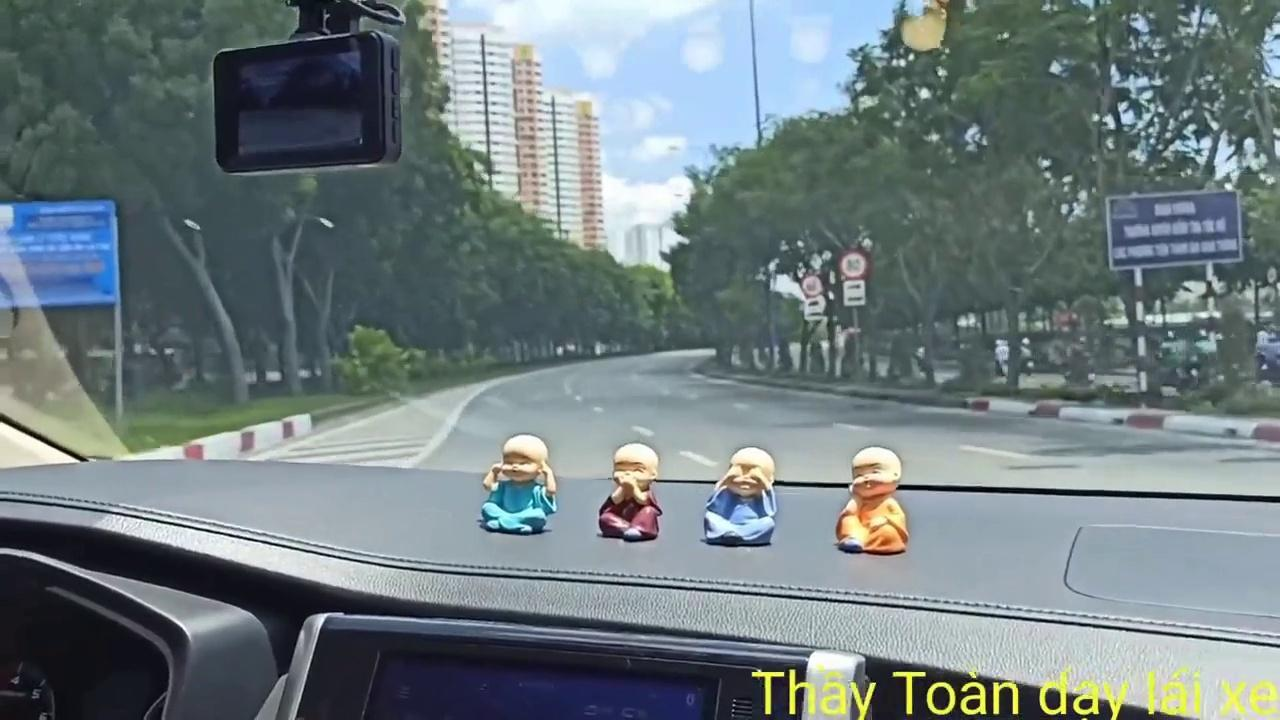Biển phụ: (842, 279, 866, 306), (804, 298, 824, 321)
GIơi hạn tốc độ 60Km/h: (802, 275, 823, 297)
Giới hạn tốc độ 80Km/h: (838, 251, 868, 278)
Khác: (0, 199, 121, 309)
